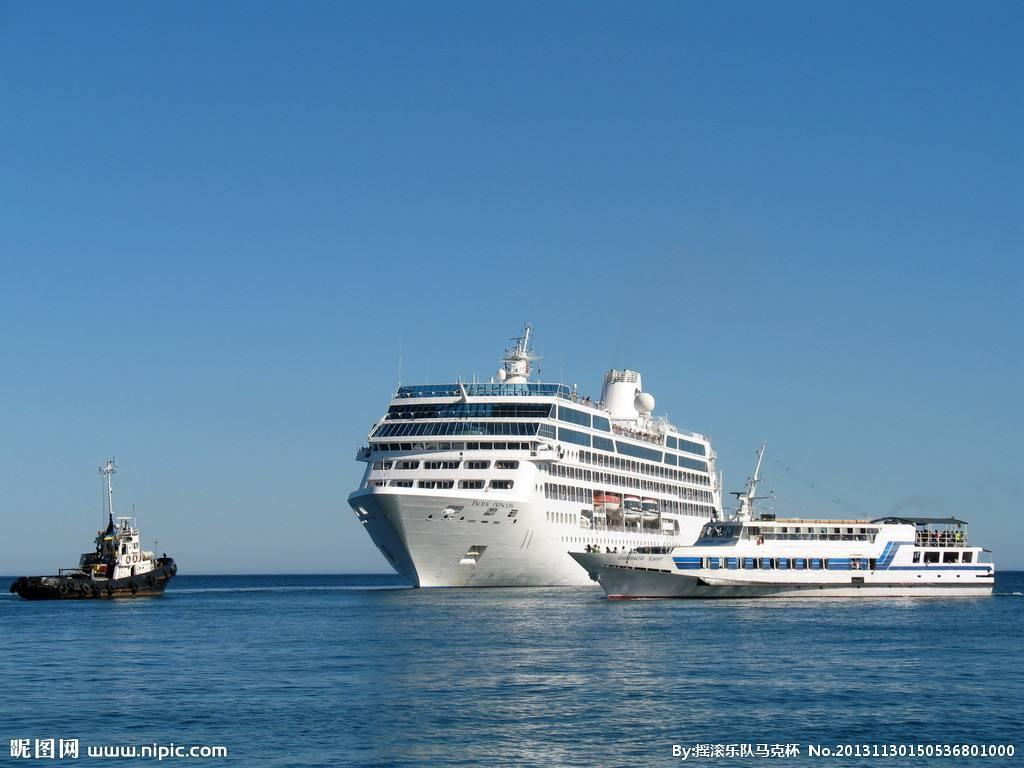otherboat: (9, 461, 196, 611)
youlun: (344, 323, 733, 586), (575, 505, 991, 602)
